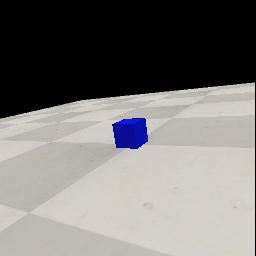box: (112, 118, 148, 149)
